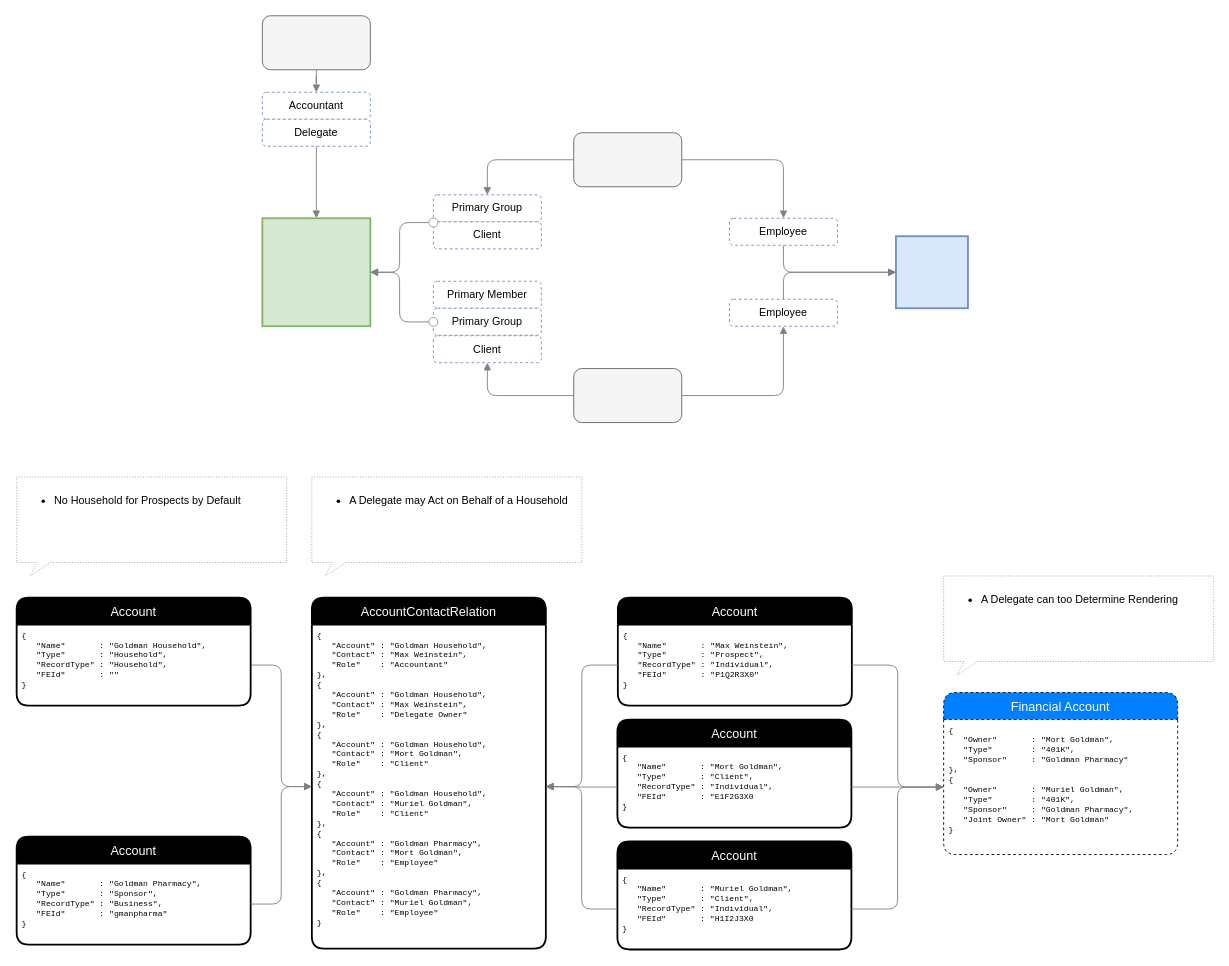
This 1229x966 diagram has some shape labels left out. The centre of each missing label's shape, as x and y in pixels:
"Goldman Pharmacy" belongs at point (931, 272).
"Household Mort Goldman" belongs at point (316, 272).
"Max Weinstein" belongs at point (315, 42).
"Mort Goldman" belongs at point (627, 159).
"Muriel Goldman" belongs at point (627, 395).
